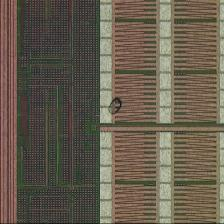PARTICLE: (107, 96, 123, 117)
